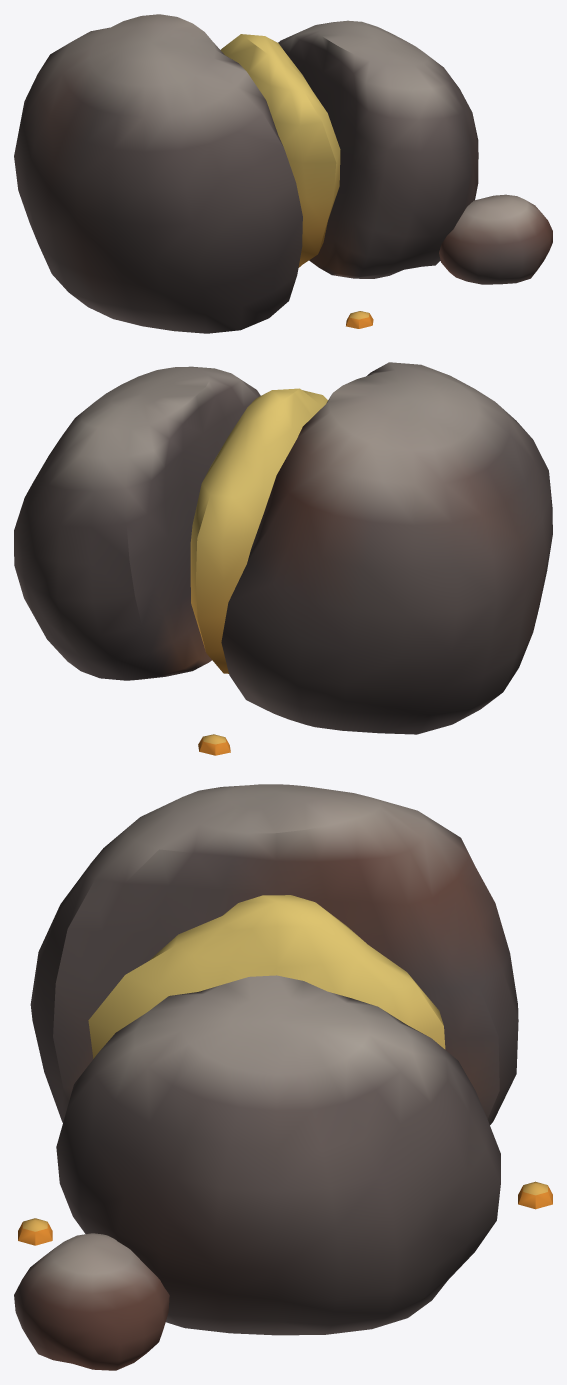
The model's file is EmberRockA.fbx.
3 views of the same model, one above another, from view 1: azimuth 30°, elevation 25°; view 2: azimuth 150°, elevation 25°; view 3: azimuth 270°, elevation 25° (orthographic). The views are drawn at different scales.
Visible parts, largest first — view 1: EmberRockA; view 2: EmberRockA; view 3: EmberRockA.
Boxes of the visible parts, x1,y1,x2,y2 form: EmberRockA: (14,14,552,333); EmberRockA: (14,362,552,755); EmberRockA: (14,784,552,1370).
Bounding box in the file's own units: 1.25 × 0.695 × 0.9374.
